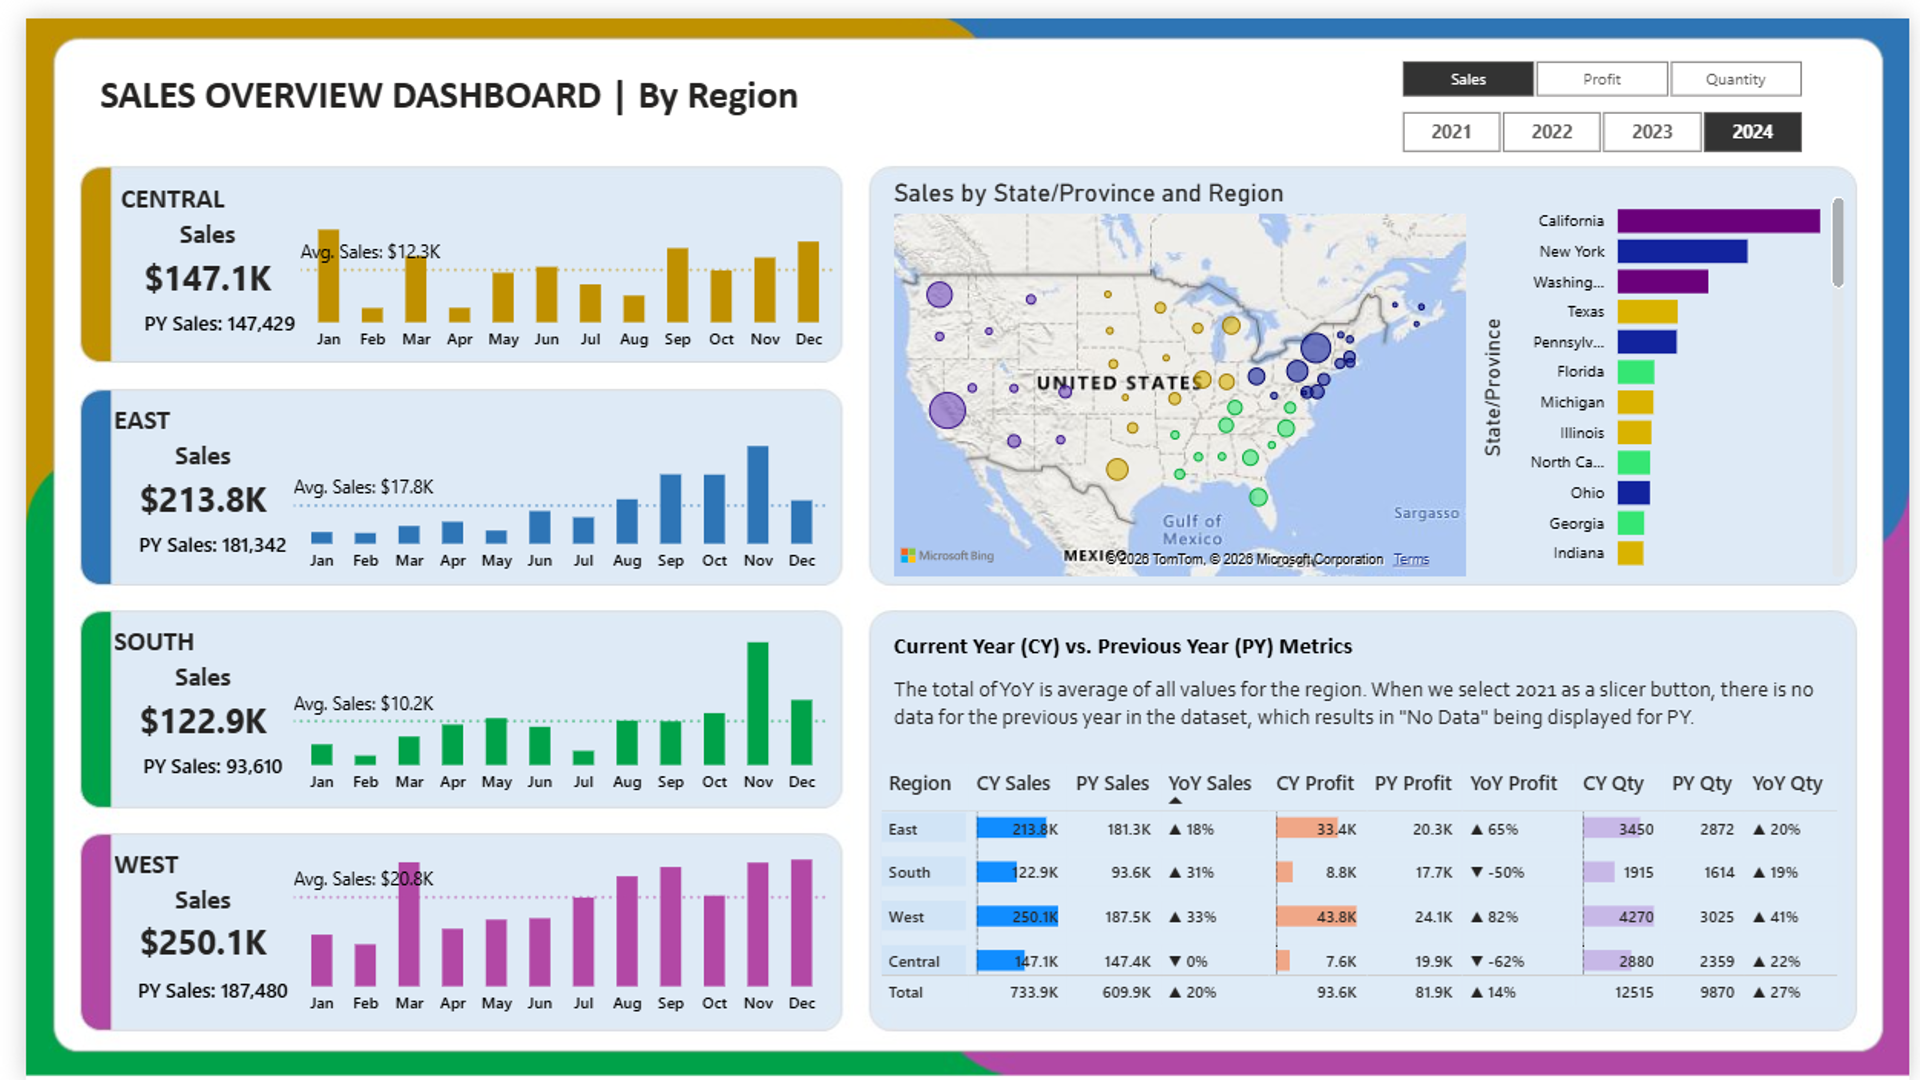

What the dashboard file says about the page in this screenshot:
{"tool":"powerbi","page":{"name":"Page 1","canvas":[1280,720],"ordinal":0},"visuals":[{"type":"slicer","fields":{"Values":["Select Metric.Select Metric"]},"box":[909,21.8,320.5,34.6],"z":0},{"type":"card","fields":{"Values":["Sales Data.Total Sales"]},"box":[66.3,159,114.5,34.9],"z":1000},{"type":"slicer","fields":{"Values":["Calendar Table.Date.Variation.Date Hierarchy.Year"]},"box":[909,56.4,320.5,41],"z":2000},{"type":"card","fields":{"Values":["Sales Data.Dynamic Title"]},"box":[66.3,131.3,114.5,31.3],"z":3000},{"type":"textbox","box":[59,104.8,101.2,34.9],"z":4000},{"type":"card","fields":{"Values":["Sales Data.PY KPI Sales"]},"box":[66.5,193.8,127.8,24.4],"z":5000},{"type":"clusteredColumnChart","fields":{"Y":["Sales Data.Total Sales"],"Category":["Calendar Table.Month"]},"box":[181.1,104.4,374.4,128.9],"z":6000},{"type":"textbox","box":[39.4,30.3,497,50],"z":7000},{"type":"card","fields":{"Values":["Sales Data.Total Sales"]},"box":[62.1,309.4,114.5,34.9],"z":8000},{"type":"card","fields":{"Values":["Sales Data.Dynamic Title"]},"box":[62.1,281.7,114.5,31.3],"z":9000},{"type":"textbox","box":[54.9,255.2,101.2,34.9],"z":10000},{"type":"card","fields":{"Values":["Sales Data.PY KPI Sales"]},"box":[62.3,344.2,127.8,24.4],"z":11000},{"type":"clusteredColumnChart","fields":{"Y":["Sales Data.Total Sales"],"Category":["Calendar Table.Month"]},"box":[177,254.8,374.4,128.9],"z":12000},{"type":"card","fields":{"Values":["Sales Data.Total Sales"]},"box":[61.9,459.5,114.5,34.9],"z":13000},{"type":"card","fields":{"Values":["Sales Data.Dynamic Title"]},"box":[61.9,431.8,114.5,31.3],"z":14000},{"type":"textbox","box":[54.7,405.3,101.2,34.9],"z":15000},{"type":"card","fields":{"Values":["Sales Data.PY KPI Sales"]},"box":[62.1,494.2,127.8,24.4],"z":16000},{"type":"clusteredColumnChart","fields":{"Y":["Sales Data.Total Sales"],"Category":["Calendar Table.Month"]},"box":[176.7,404.9,374.4,128.9],"z":17000},{"type":"card","fields":{"Values":["Sales Data.Total Sales"]},"box":[61.9,610.1,114.5,34.9],"z":18000},{"type":"card","fields":{"Values":["Sales Data.Dynamic Title"]},"box":[61.9,582.3,114.5,31.3],"z":19000},{"type":"textbox","box":[54.7,555.8,101.2,34.9],"z":20000},{"type":"card","fields":{"Values":["Sales Data.PY KPI Sales"]},"box":[62.1,644.8,127.8,24.4],"z":21000},{"type":"clusteredColumnChart","fields":{"Y":["Sales Data.Total Sales"],"Category":["Calendar Table.Month"]},"box":[176.7,555.5,374.4,128.9],"z":22000},{"type":"map","fields":{"Size":["Sales Data.Total Sales"],"Category":["Sales Data.State/Province"],"Series":["Sales Data.Region"]},"box":[584.2,107.4,398.9,275.8],"z":23000},{"type":"barChart","fields":{"Y":["Sales Data.Total Sales"],"Category":["Sales Data.State/Province"],"Series":["Sales Data.Region"]},"box":[983.2,107.4,256.8,275.8],"z":24000},{"type":"tableEx","fields":{"Values":["Sales Data.Region","Sales Data.CY Sales","Sales Data.PY SALES","Sales Data.YoY Sales","Sales Data.CY PROFIT","Sales Data.PY Profit","Sales Data.YoY Profit","Sales Data.CY Quantity","Sales Data.PY Quantity","Sales Data.YoY Quantity"]},"box":[575.2,500.5,665.8,181.2],"z":25000},{"type":"textbox","box":[584.5,408.8,496.7,31.8],"z":26001},{"type":"textbox","box":[583.9,438.6,657.2,61.8],"z":26002}]}

Visuals, with their boxes in screenshot pixels (x1, y1, x2, y2), scaled from the page's 1280x720 canvas onto the 1920x1080 screenshot:
slicer - Select Metric.Select Metric: pyautogui.locateOnScreen(1364, 33, 1844, 85)
card - Sales Data.Total Sales: pyautogui.locateOnScreen(99, 238, 271, 291)
slicer - Calendar Table.Date.Variation.Date Hierarchy.Year: pyautogui.locateOnScreen(1364, 85, 1844, 146)
card - Sales Data.Dynamic Title: pyautogui.locateOnScreen(99, 197, 271, 244)
textbox: pyautogui.locateOnScreen(88, 157, 240, 210)
card - Sales Data.PY KPI Sales: pyautogui.locateOnScreen(100, 291, 291, 327)
clusteredColumnChart - Sales Data.Total Sales x Calendar Table.Month: pyautogui.locateOnScreen(272, 157, 833, 350)
textbox: pyautogui.locateOnScreen(59, 45, 805, 120)
card - Sales Data.Total Sales: pyautogui.locateOnScreen(93, 464, 265, 516)
card - Sales Data.Dynamic Title: pyautogui.locateOnScreen(93, 423, 265, 470)
textbox: pyautogui.locateOnScreen(82, 383, 234, 435)
card - Sales Data.PY KPI Sales: pyautogui.locateOnScreen(93, 516, 285, 553)
clusteredColumnChart - Sales Data.Total Sales x Calendar Table.Month: pyautogui.locateOnScreen(266, 382, 827, 576)
card - Sales Data.Total Sales: pyautogui.locateOnScreen(93, 689, 265, 742)
card - Sales Data.Dynamic Title: pyautogui.locateOnScreen(93, 648, 265, 695)
textbox: pyautogui.locateOnScreen(82, 608, 234, 660)
card - Sales Data.PY KPI Sales: pyautogui.locateOnScreen(93, 741, 285, 778)
clusteredColumnChart - Sales Data.Total Sales x Calendar Table.Month: pyautogui.locateOnScreen(265, 607, 827, 801)
card - Sales Data.Total Sales: pyautogui.locateOnScreen(93, 915, 265, 968)
card - Sales Data.Dynamic Title: pyautogui.locateOnScreen(93, 873, 265, 920)
textbox: pyautogui.locateOnScreen(82, 834, 234, 886)
card - Sales Data.PY KPI Sales: pyautogui.locateOnScreen(93, 967, 285, 1004)
clusteredColumnChart - Sales Data.Total Sales x Calendar Table.Month: pyautogui.locateOnScreen(265, 833, 827, 1027)
map - Sales Data.Total Sales x Sales Data.State/Province: pyautogui.locateOnScreen(876, 161, 1475, 575)
barChart - Sales Data.Total Sales x Sales Data.State/Province: pyautogui.locateOnScreen(1475, 161, 1860, 575)
tableEx - Sales Data.Region x Sales Data.CY Sales: pyautogui.locateOnScreen(863, 751, 1862, 1023)
textbox: pyautogui.locateOnScreen(877, 613, 1622, 661)
textbox: pyautogui.locateOnScreen(876, 658, 1862, 751)
